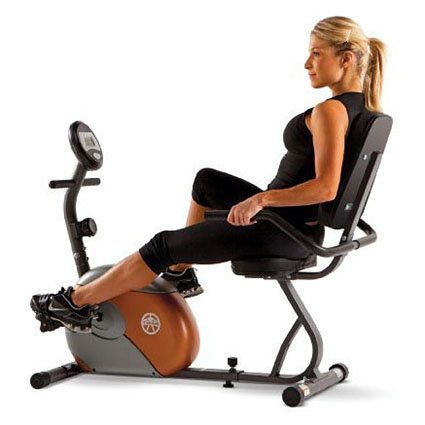gym_bike: (32, 107, 396, 413)
